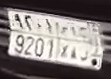0: (33, 20, 45, 58)
1: (45, 19, 55, 61)
2: (23, 14, 35, 59)
9: (12, 13, 24, 57)
J: (78, 23, 91, 63)
X: (59, 22, 70, 63)
